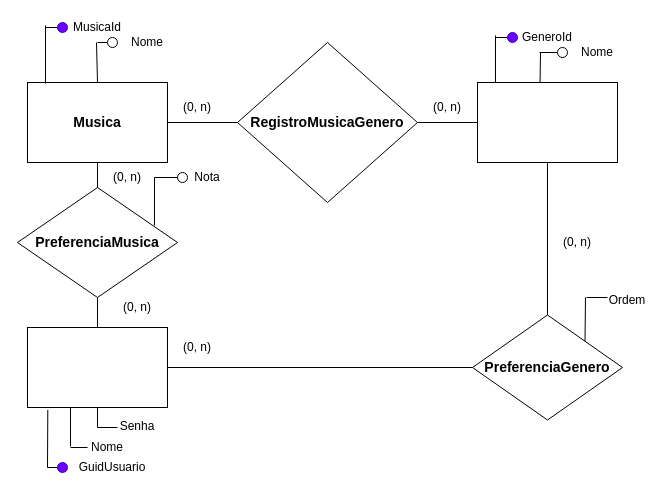
This 665x499 diagram has some shape labels left out. The box of each missing label's shape, as (x1, y1, x2, y2) in pixels:
Genero: (476, 82, 618, 162)
Usuario: (26, 326, 168, 408)
